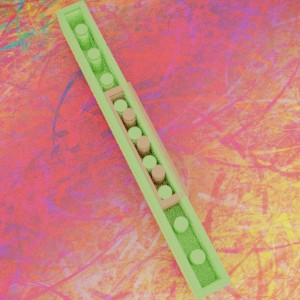lego: (55, 0, 232, 299), (100, 81, 189, 215)
